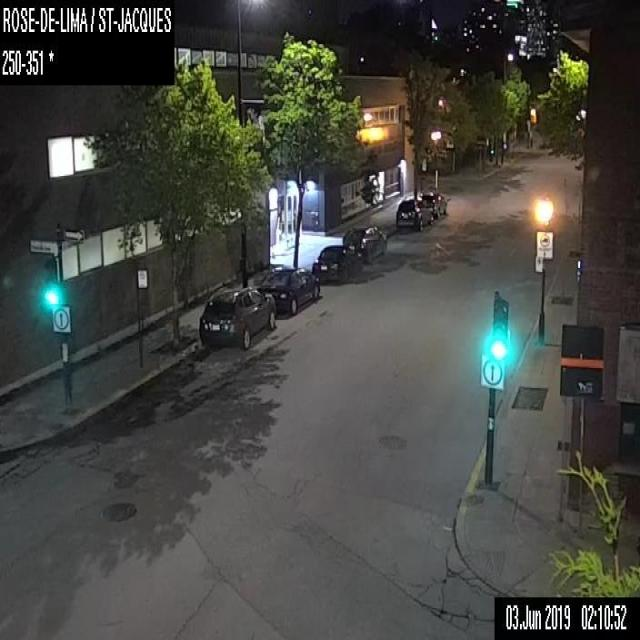vehicle: (196, 284, 274, 348), (260, 267, 320, 315), (314, 243, 363, 284), (342, 224, 386, 262), (394, 196, 432, 231), (418, 190, 449, 220)
